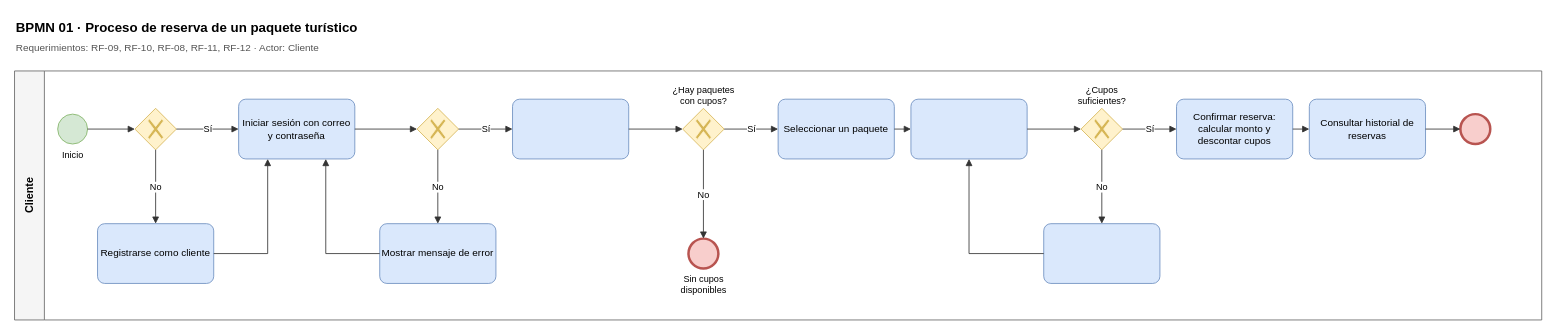
Image size: 1556x334. Some labels were removed from this diagram. Here are the shapes that lost their labels. From the top down, the centre of each, then its label:
At point 155,128: "¿Tiene cuenta?".
At point 437,128: "¿Credenciales válidas?".
At point 570,128: "Consultar paquetes disponibles".
At point 968,128: "Indicar el número de viajeros".
At point 1475,128: "Reserva confirmada".
At point 1101,253: "Informar que los cupos son insuficientes".
